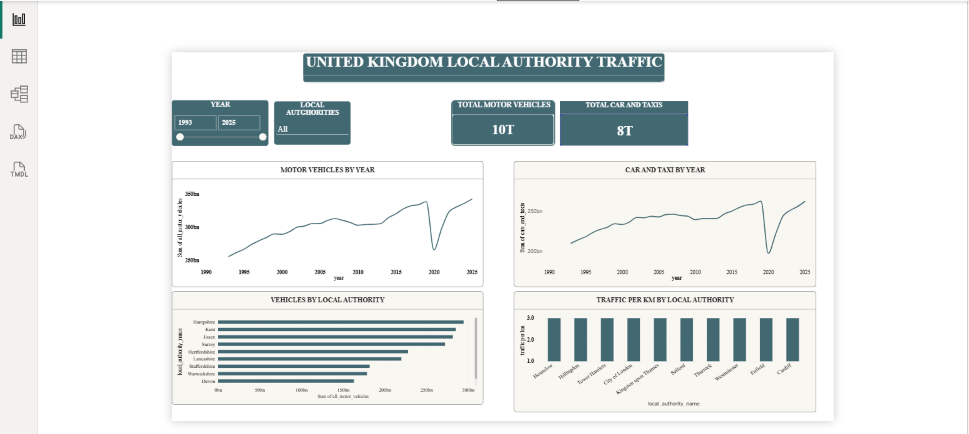

This screenshot's page, from the dashboard's own definition file:
{"tool":"powerbi","page":{"name":"LOCAL AUTHORITY TRAFFIC ANALYSIS","canvas":[1960,1091],"ordinal":0},"visuals":[{"type":"cardVisual","title":"TOTAL MOTOR VEHICLES","fields":{"Data":["Sum(local authority analysis.all_motor_vehicles)"]},"box":[827.5,142.5,307.8,136],"z":0},{"type":"cardVisual","title":"TOTAL CAR AND TAXIS","fields":{"Data":["Sum(local authority analysis.cars_and_taxis)"]},"box":[1150,145,380,132.5],"z":1000},{"type":"lineChart","title":"MOTOR VEHICLES BY YEAR","fields":{"Category":["local authority analysis.year"],"Y":["Sum(local authority analysis.all_motor_vehicles)"]},"box":[0,322.5,922.5,372.5],"z":2000},{"type":"lineChart","title":"CAR AND TAXI BY YEAR","fields":{"Category":["local authority analysis.year"],"Y":["Sum(local authority analysis.cars_and_taxis)"]},"box":[1012.5,322.5,895,372.5],"z":3000},{"type":"clusteredBarChart","title":"VEHICLES BY LOCAL AUTHORITY","fields":{"Category":["local authority analysis.local_authority_name"],"Y":["Sum(local authority analysis.all_motor_vehicles)"]},"box":[0,707.5,922.5,335],"z":4000},{"type":"slicer","title":"YEAR","fields":{"Values":["local authority analysis.year"]},"box":[0,140.8,286.3,136],"z":5000},{"type":"clusteredColumnChart","title":"TRAFFIC PER KM BY LOCAL AUTHORITY","fields":{"Category":["local authority analysis.local_authority_name"],"Y":["local authority analysis.traffic per km"]},"box":[1012.5,707.5,895,357.5],"z":6000},{"type":"slicer","title":"LOCAL AUTGHORITIES","fields":{"Values":["local authority analysis.local_authority_name"]},"box":[302.5,145,227.5,130],"z":7000},{"type":"textbox","title":"UNITED KINGDOM LOCAL AUTHORITY TRAFFIC","box":[387.5,2.5,1071.3,85.9],"z":9000}]}

Visuals, with their boxes on the page's 1960x1091 design canvas (x1, y1, x2, y2). These are canvas units, not pixel positions in the 969x434 screenshot, which may show the page scaled, cropped or inside an application window:
"TOTAL MOTOR VEHICLES" cardVisual: 828, 142, 1135, 278
"TOTAL CAR AND TAXIS" cardVisual: 1150, 145, 1530, 278
"MOTOR VEHICLES BY YEAR" lineChart: 0, 322, 922, 695
"CAR AND TAXI BY YEAR" lineChart: 1012, 322, 1908, 695
"VEHICLES BY LOCAL AUTHORITY" clusteredBarChart: 0, 708, 922, 1042
"YEAR" slicer: 0, 141, 286, 277
"TRAFFIC PER KM BY LOCAL AUTHORITY" clusteredColumnChart: 1012, 708, 1908, 1065
"LOCAL AUTGHORITIES" slicer: 302, 145, 530, 275
"UNITED KINGDOM LOCAL AUTHORITY TRAFFIC" textbox: 388, 2, 1459, 88
